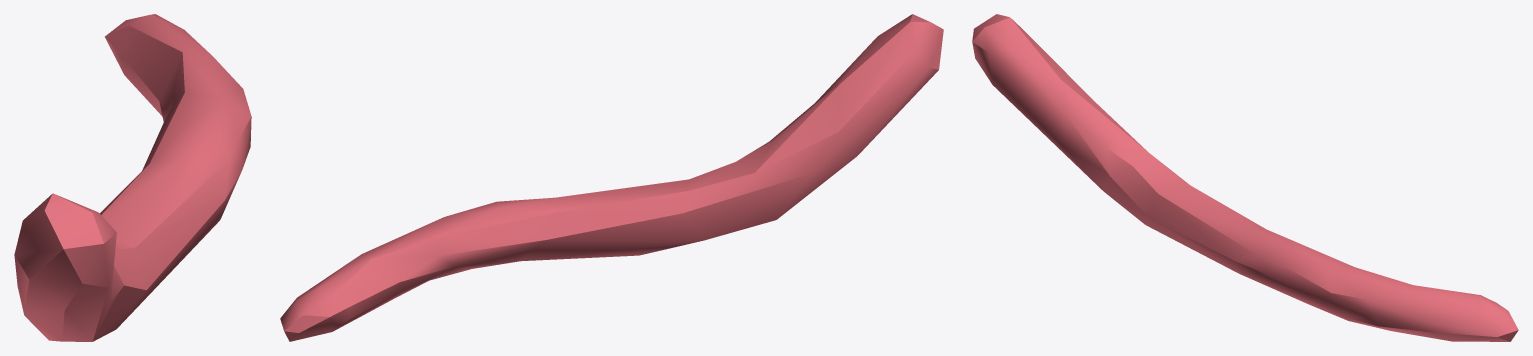
File: fma3860_fj2637.glb
The picture shows the model from 3 angles, left to right: view 1: azimuth 30°, elevation 25°; view 2: azimuth 150°, elevation 25°; view 3: azimuth 270°, elevation 25°; orthographic projection. The views are drawn at different scales.
Visible parts, largest first — view 1: FMA3860_FJ2637; view 2: FMA3860_FJ2637; view 3: FMA3860_FJ2637.
Part boxes in pixels (box(x1,y1,x2,y2)): FMA3860_FJ2637: box(14, 14, 251, 341); FMA3860_FJ2637: box(280, 14, 943, 341); FMA3860_FJ2637: box(972, 14, 1518, 341).
Size of the model in its own units: 0.00579 by 0.00293 by 0.00808.
